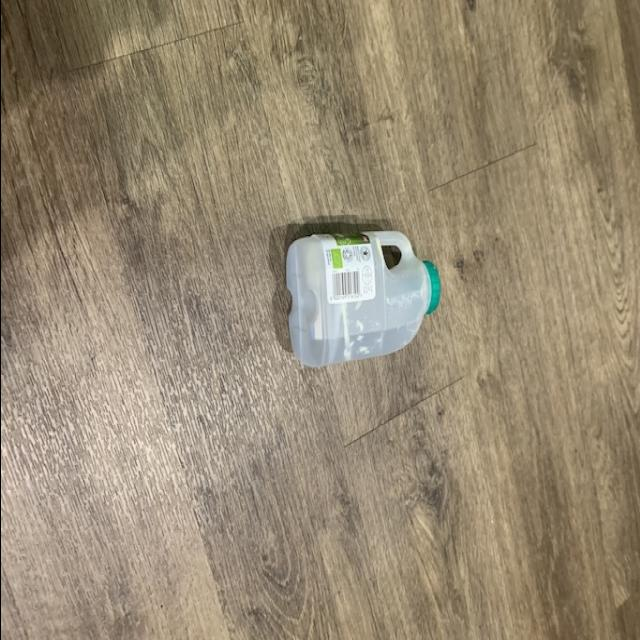HDPEM: (280, 224, 442, 366)
